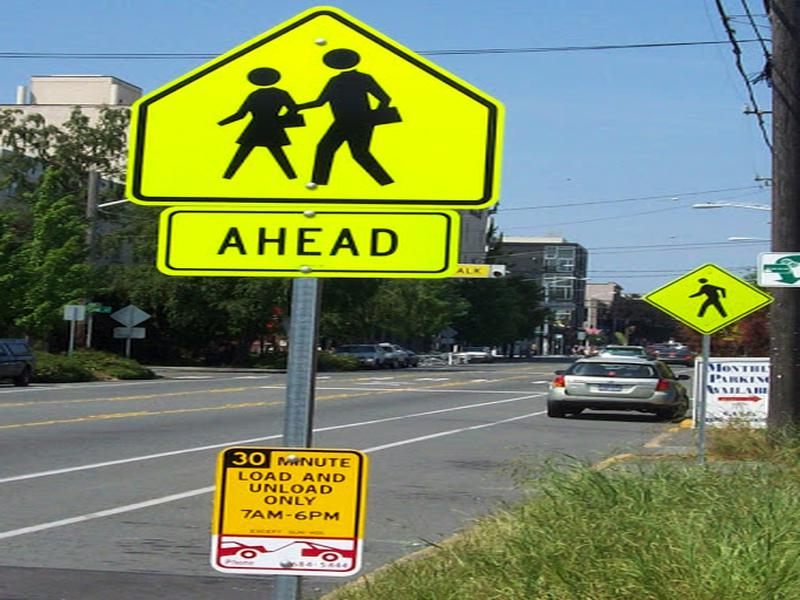slow: (118, 11, 505, 216)
